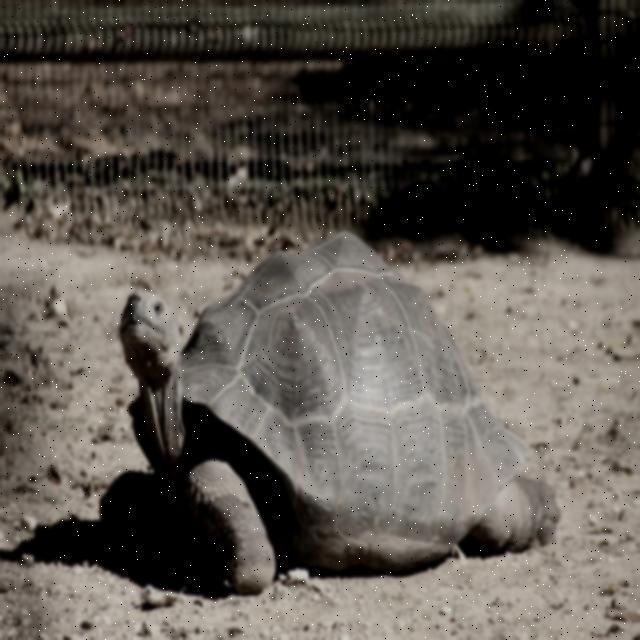tortoise: (117, 240, 553, 580)
